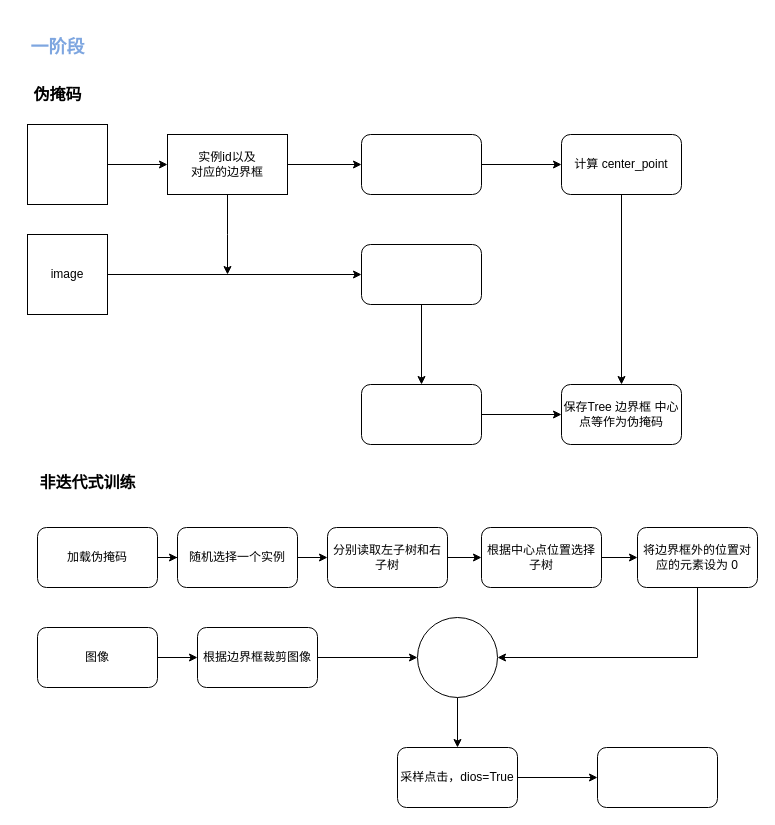
Some shapes in this 775 by 825 pixel diagram are drawn without their labels. Here are the shapes that lost their labels. From the top down, the centre of each, then its label:
At point (67, 164): "mask".
At point (421, 164): "裁剪 mask".
At point (421, 274): "裁剪图像".
At point (421, 414): "MIS 方法得到 Tree".
At point (457, 657): "DSample".
At point (657, 777): "随机选择5个正样本点和10个负样本点进行非迭代式训练".
